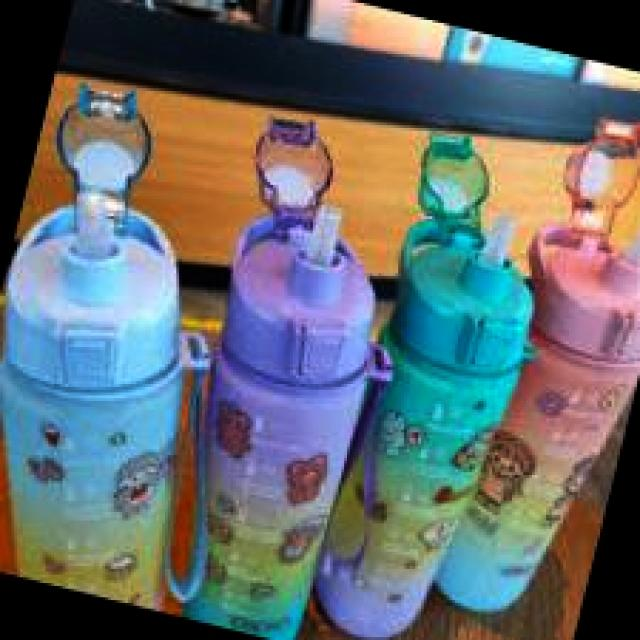bottle: (0, 57, 319, 617), (128, 99, 455, 640), (284, 114, 586, 640), (421, 99, 640, 640)
